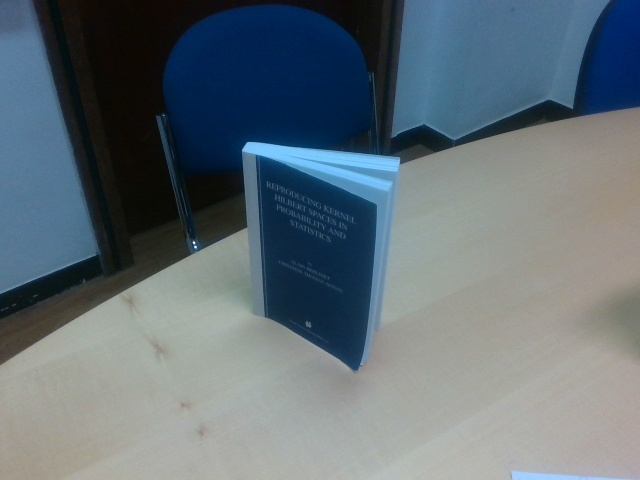book: (240, 141, 401, 374)
